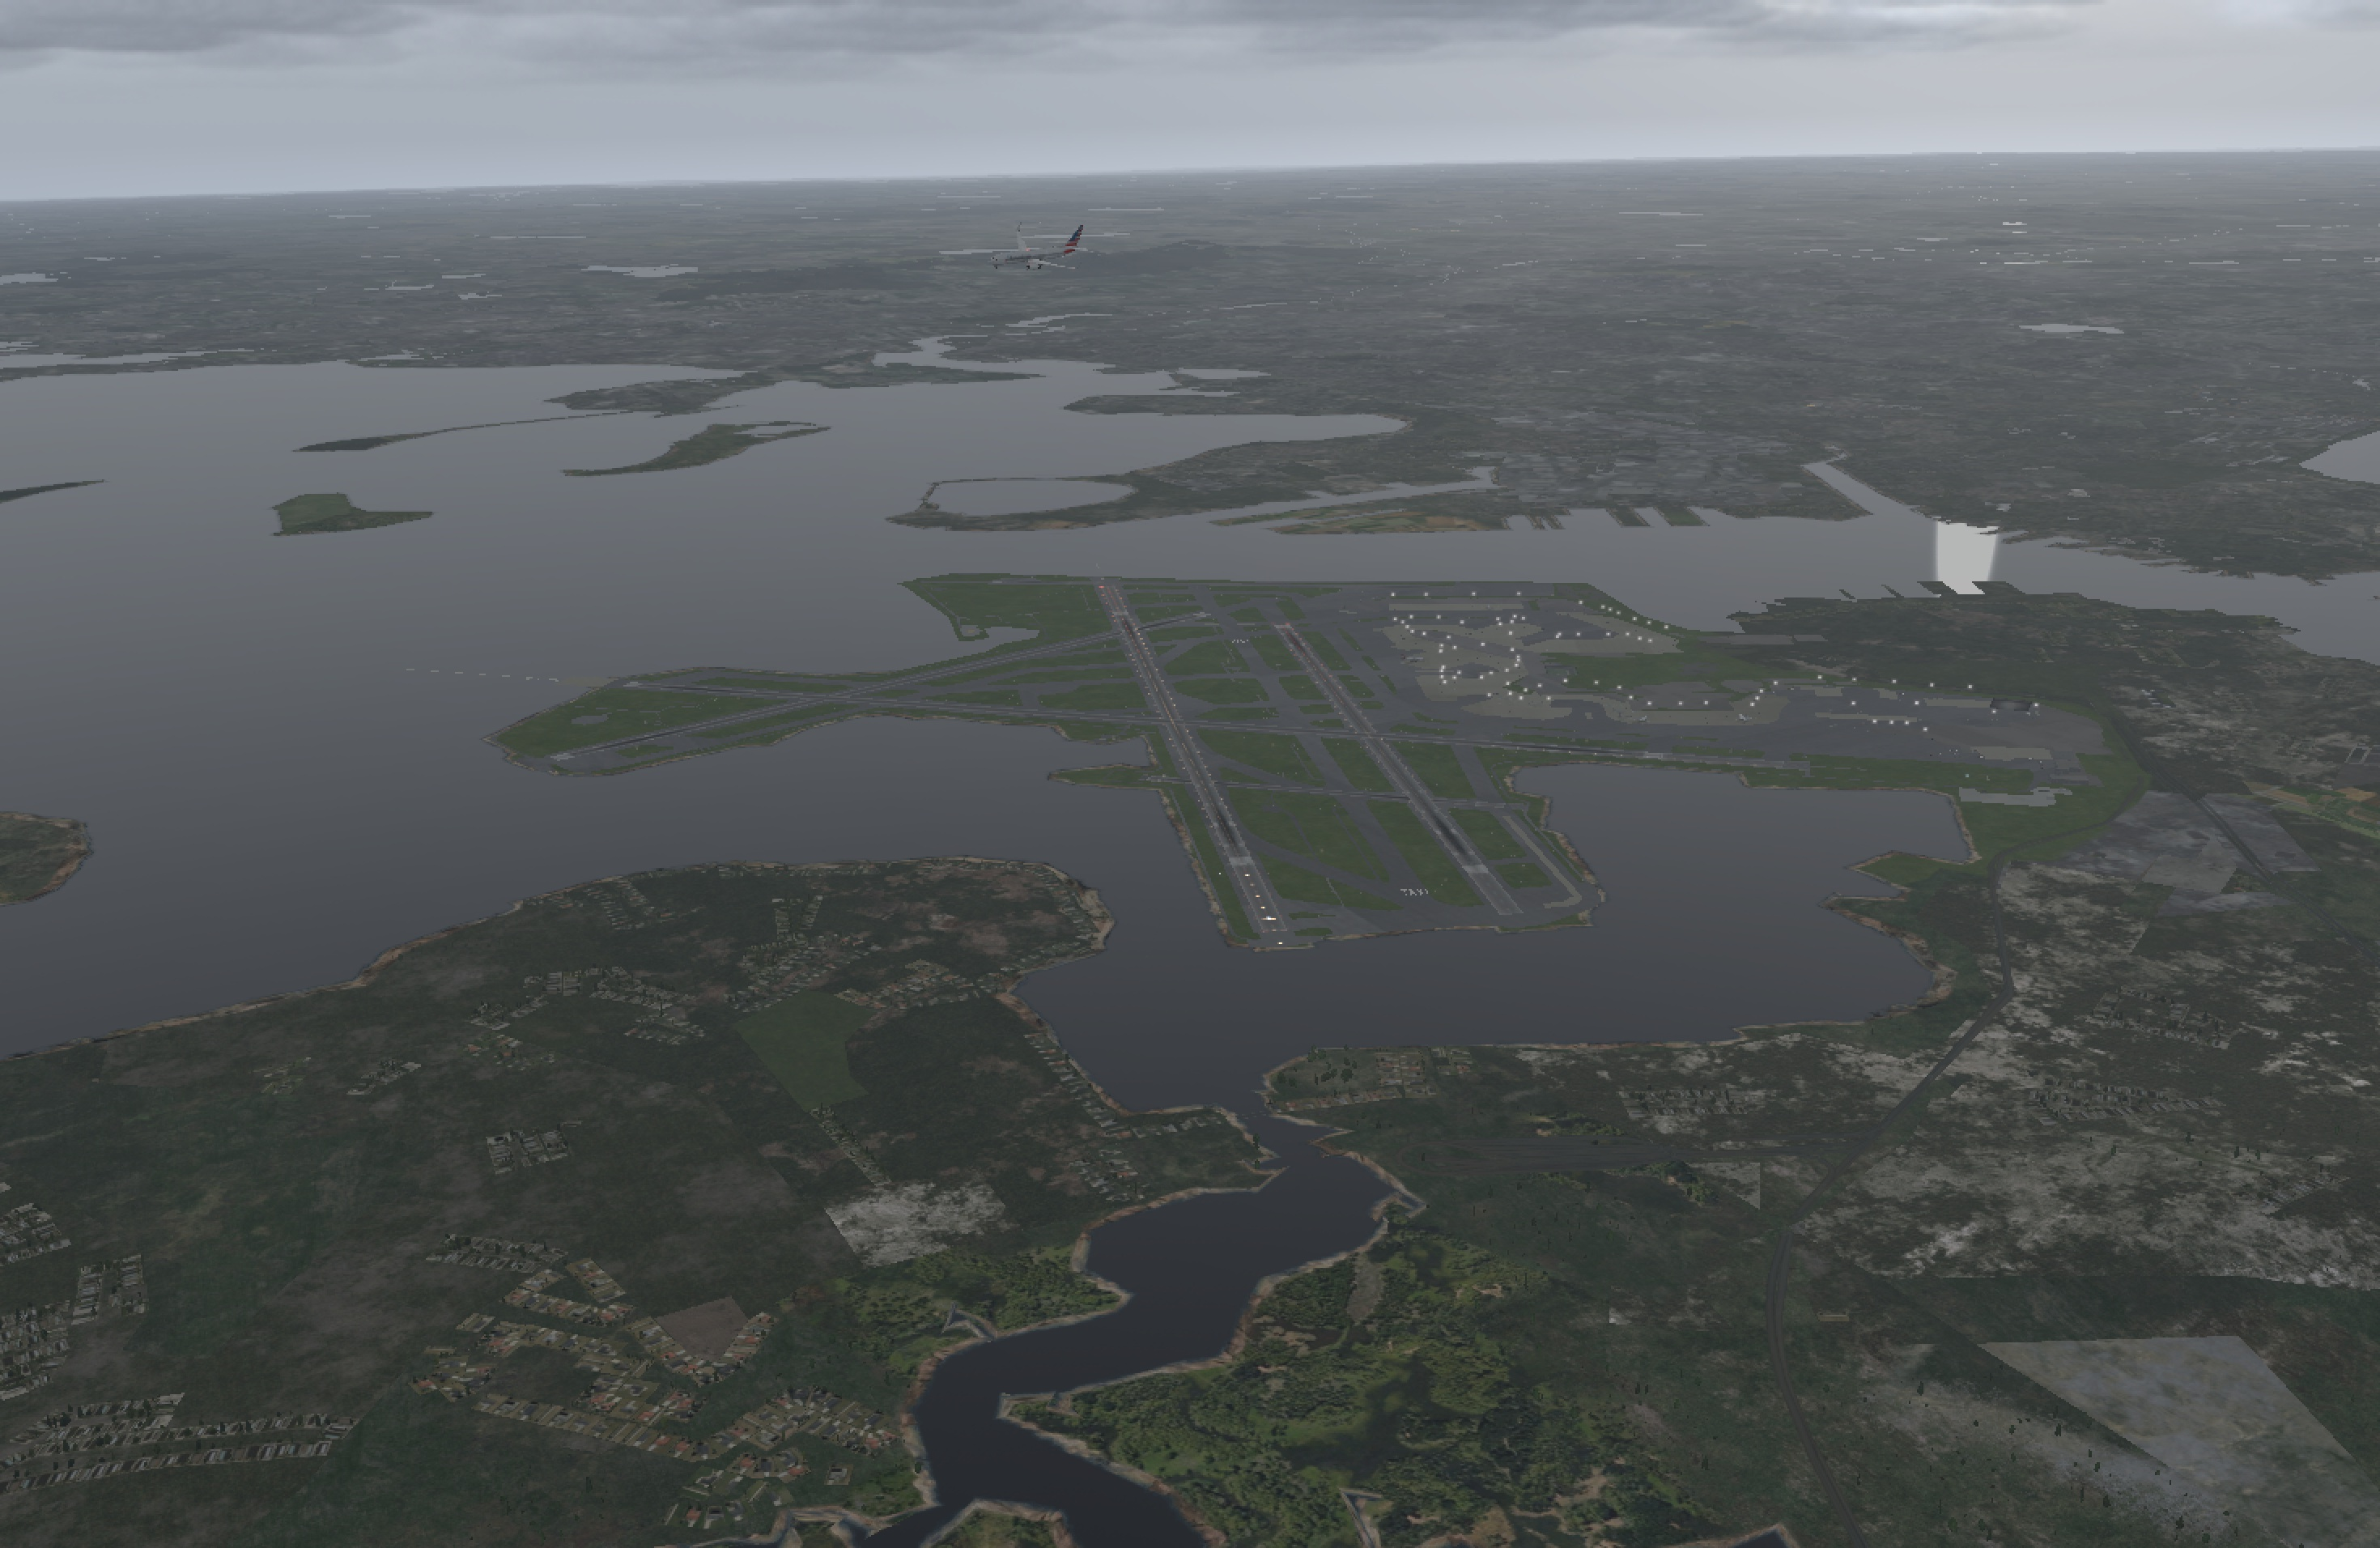aircraft: (975, 236, 1088, 278)
